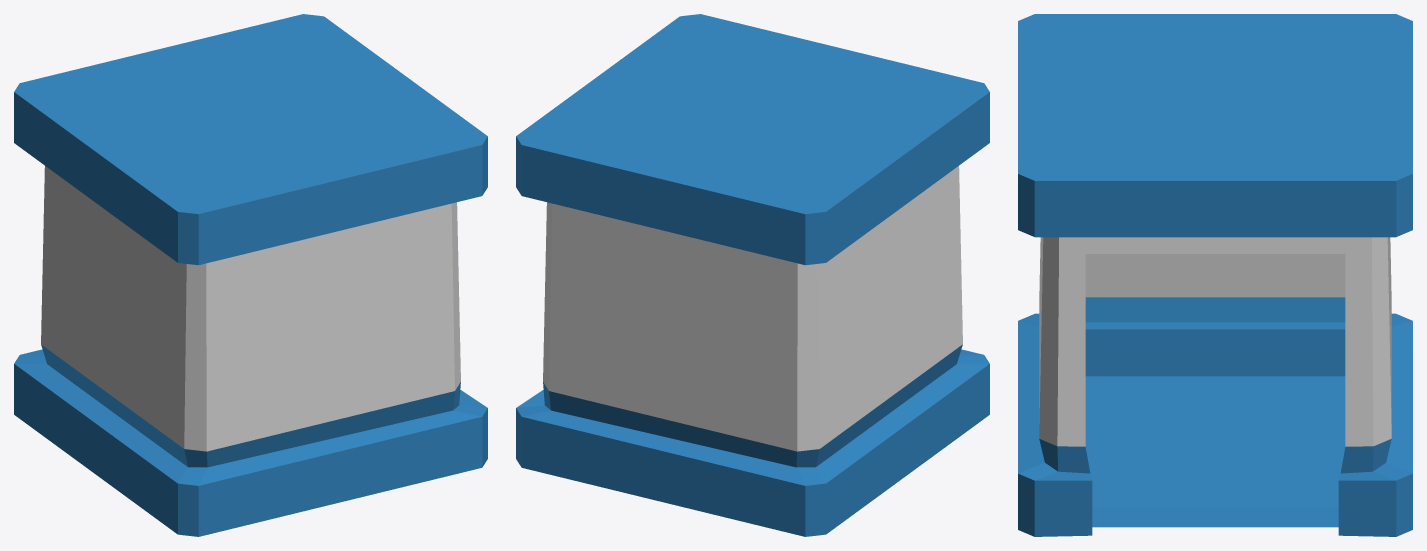
File: spawner-container.fbx
3 renders of one model, left to right at view 1: azimuth 30°, elevation 25°; view 2: azimuth 150°, elevation 25°; view 3: azimuth 270°, elevation 25°, orthographic. The views are drawn at different scales.
Parts seen in each view (by area): view 1: container; view 2: container; view 3: container.
Boxes of the visible parts, left/top/right/bottom form: container: left=14, top=14, right=487, bottom=536; container: left=516, top=14, right=989, bottom=536; container: left=1018, top=14, right=1412, bottom=536.
Bounding box in the file's own units: 167 × 167 × 167.
